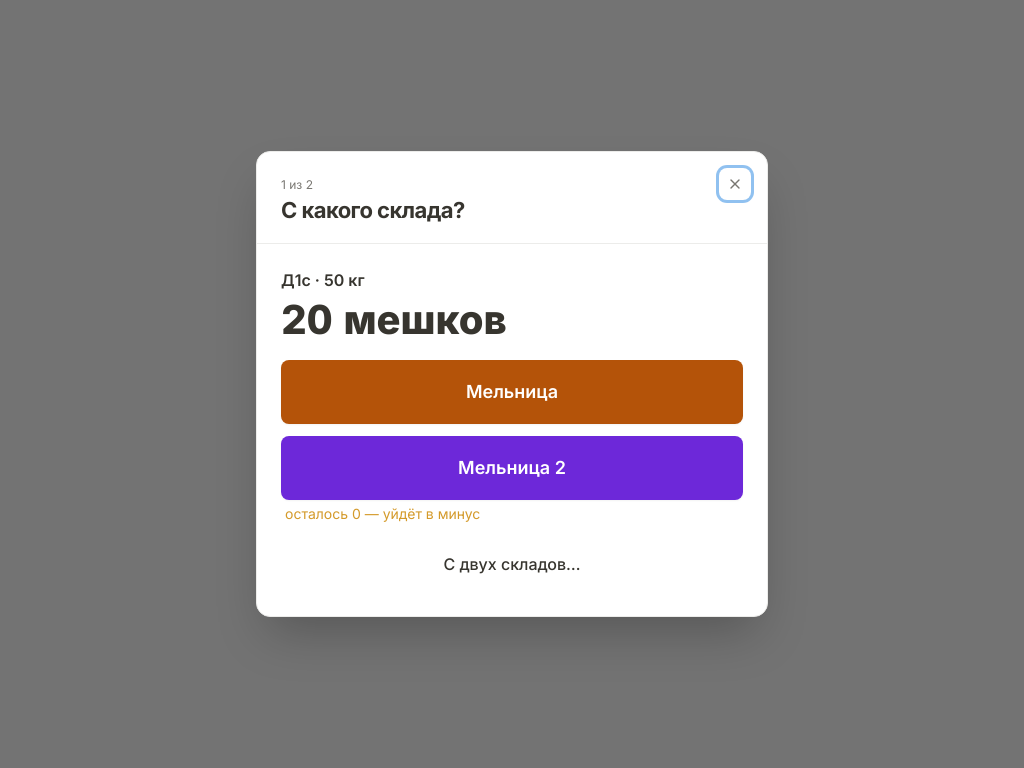
Test: ShipmentSourcesSheet › разбивка: цифры идут в первый склад, остаток — на последний
This screenshot has width=1024, height=768.
Click the button "С двух складов…" at (512, 564), box [281, 536, 743, 592]
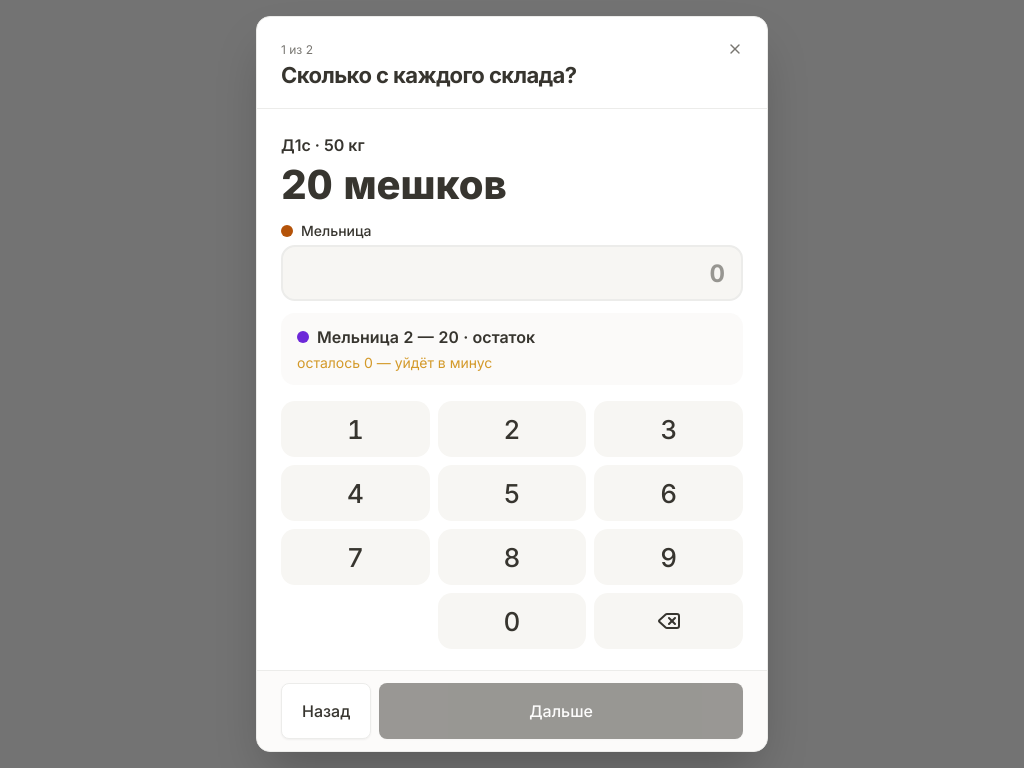
Check: the dialog "Сколько с каждого склада?" is shown, box [256, 16, 768, 752]
Check: the text "Мельница 2 — 20 · остаток" is shown, box [297, 327, 535, 347]
Check: the button "Дальше" is disabled, box [379, 683, 743, 739]
Click the button named "Цифра 1" at (355, 429), box [281, 401, 430, 457]
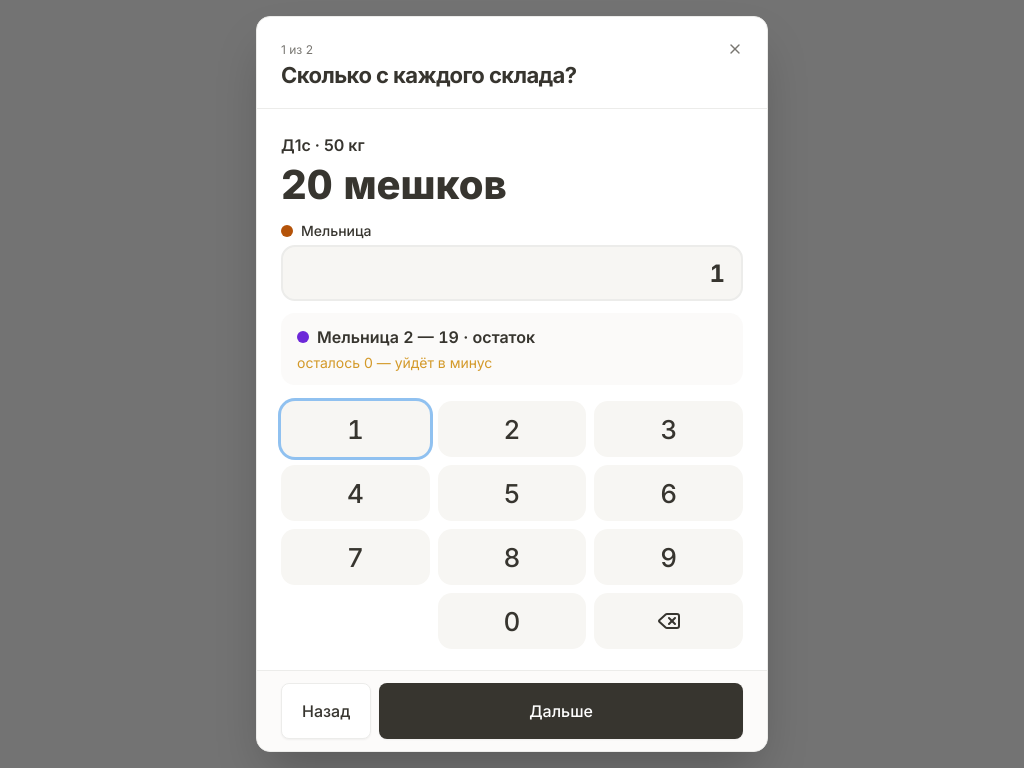
Click the button named "Цифра 2" at (512, 429), box [438, 401, 586, 457]
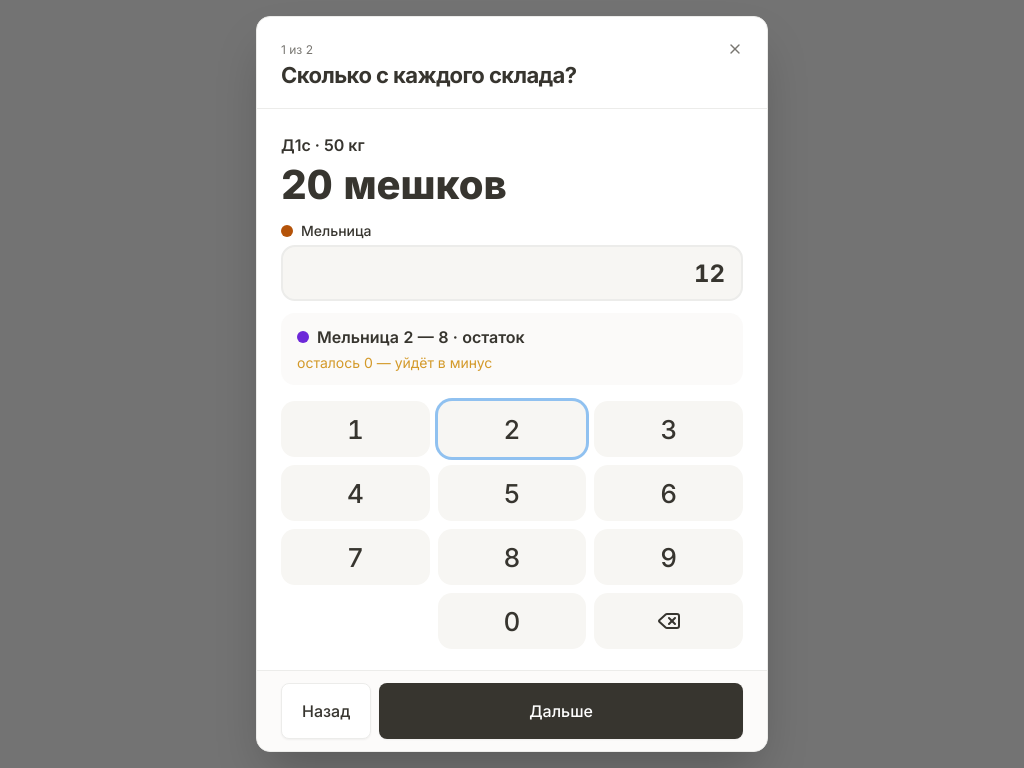
Check: the text "осталось 0 — уйдёт в минус" is shown, box [297, 354, 492, 371]
Check: the field labelled "Мельница" holds "12", box [281, 245, 743, 301]
Check: the text "Мельница 2 — 8 · остаток" is shown, box [297, 327, 525, 347]
Click the button "Дальше" at (561, 711), box [379, 683, 743, 739]
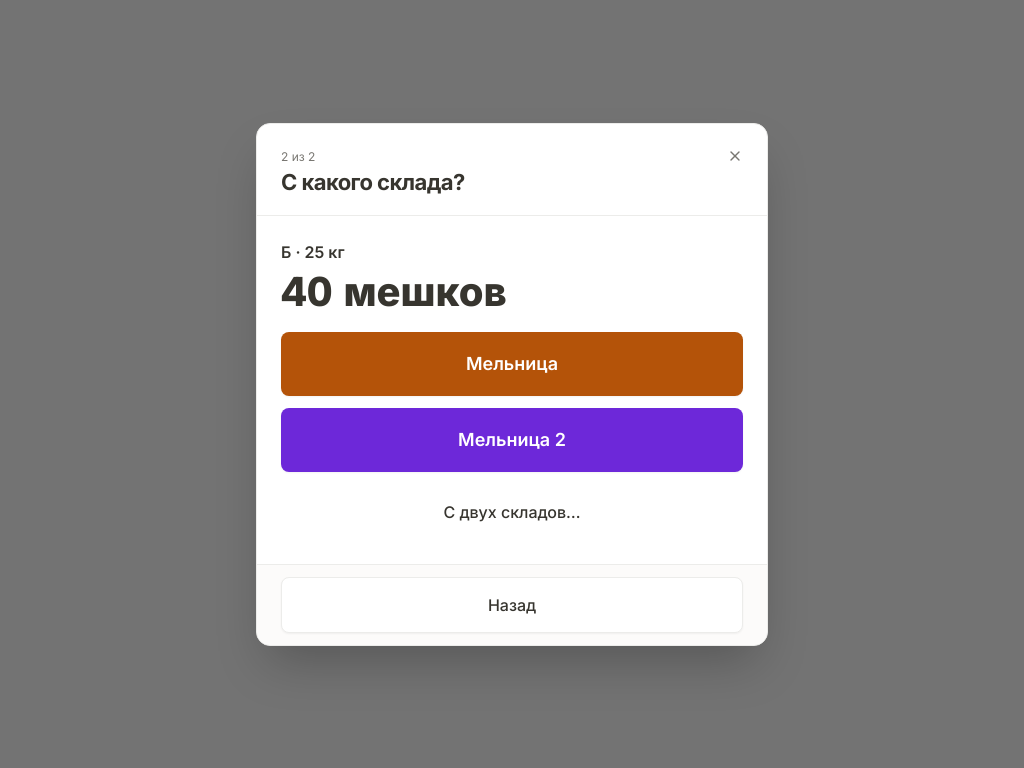
Check: the dialog "С какого склада?" is shown, box [256, 122, 768, 646]
Check: the text "2 из 2" is shown, box [281, 148, 315, 164]
